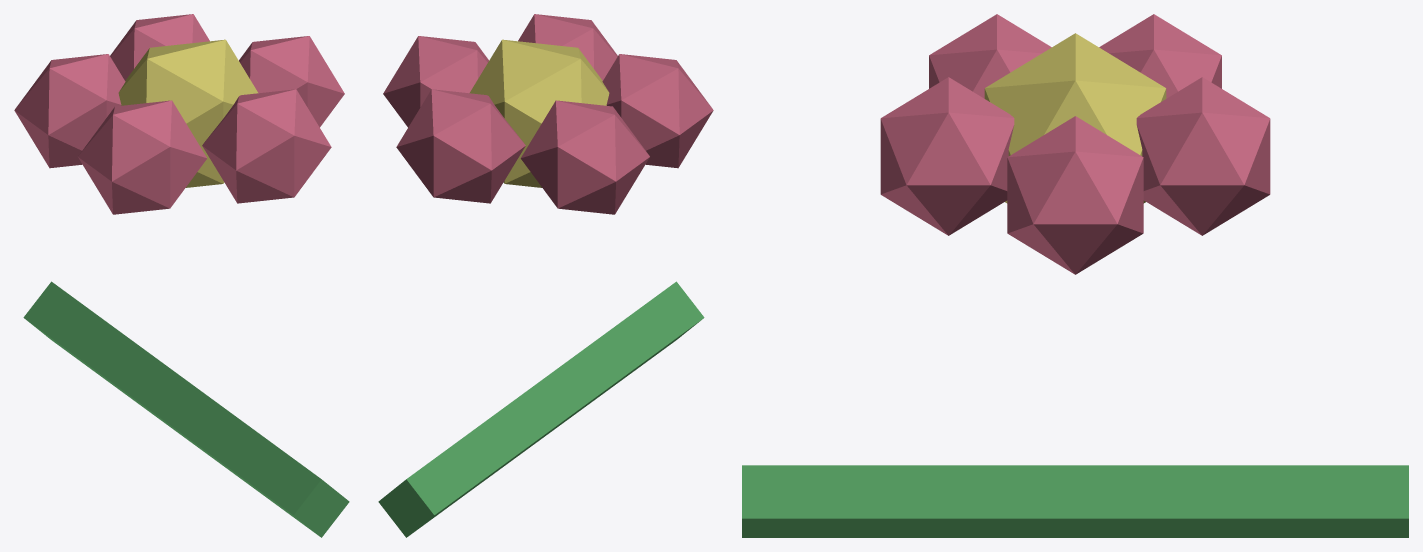
The model's file is flower_red.glb.
3 renders of one model, left to right at view 1: azimuth 30°, elevation 25°; view 2: azimuth 150°, elevation 25°; view 3: azimuth 270°, elevation 25°, orthographic. The views are drawn at different scales.
Visible parts, largest first — view 1: world; view 2: world; view 3: world.
Boxes of the visible parts, <box> form: world: <box>14,14,349,537</box>; world: <box>378,14,713,537</box>; world: <box>742,14,1408,537</box>.
Bounding box in the file's own units: 0.283 × 0.3981 × 0.5.
